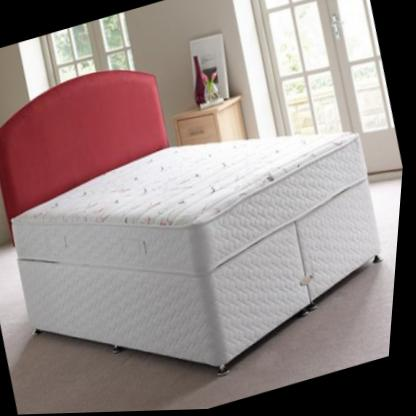Bed: (0, 70, 385, 366)
Carpet: (241, 267, 400, 400), (15, 335, 224, 415)
Window: (233, 0, 404, 161)
